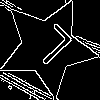L: (22, 22, 74, 74)
